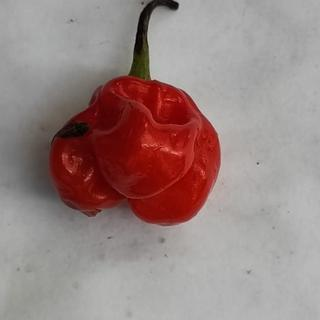Defect: (52, 120, 97, 142)
